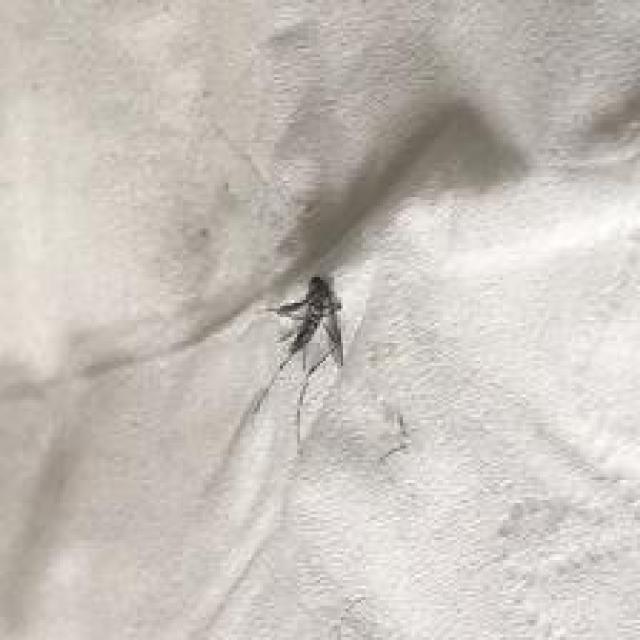Aedes albopictus: (260, 273, 346, 447)
